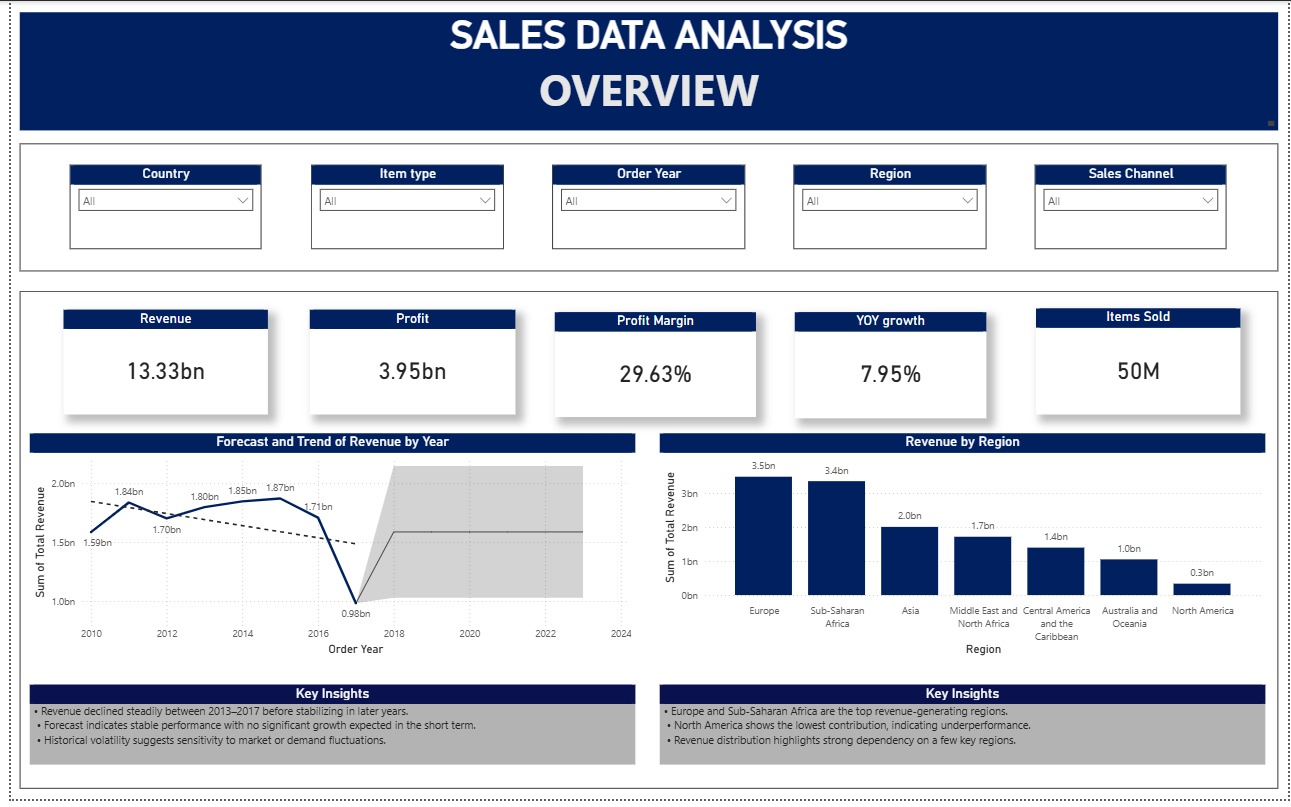

Layout of this report page (visuals, bound fields, positions):
{"tool":"powerbi","page":{"name":"Overview","canvas":[1600,1000],"ordinal":0},"visuals":[{"type":"textbox","box":[10.2,178.3,1576.1,159.6],"z":0},{"type":"textbox","box":[10.2,363.5,1576.1,623.3],"z":1000},{"type":"card","title":"Revenue","fields":{"Values":["Sales Data.Revenue"]},"box":[65.7,387.3,255.7,131.3],"z":2000},{"type":"textbox","title":"SALES DATA ANALYSIS","box":[10.2,13.6,1576.1,147.8],"z":3000},{"type":"card","title":"Items Sold ","fields":{"Values":["Sum(Sales Data.Units Sold)"]},"box":[1283.7,385.6,255.7,133],"z":4000},{"type":"card","title":"Profit Margin","fields":{"Values":["Sales Data.Profit Margin"]},"box":[680.7,389.1,252.2,131.3],"z":5000},{"type":"card","title":"Profit","fields":{"Values":["Sum(Sales Data.Total Profit)"]},"box":[374.9,387.3,257.4,131.3],"z":6000},{"type":"lineChart","title":"Forecast and Trend of Revenue by Year","fields":{"Y":["Sum(Sales Data.Total Revenue)"],"Category":["Sales Data.Order Year"]},"box":[24.2,541,758.5,283.3],"z":7000},{"type":"columnChart","title":"Revenue by Region","fields":{"Category":["Sales Data.Region"],"Y":["Sum(Sales Data.Total Revenue)"]},"box":[812,541,758.5,283.3],"z":8000},{"type":"slicer","title":"Country","fields":{"Values":["Sales Data.Country"]},"box":[74.3,205.7,240,105.7],"z":9000},{"type":"slicer","title":"Item type","fields":{"Values":["Sales Data.Item Type"]},"box":[375.4,205.7,241.4,105.7],"z":10000},{"type":"slicer","title":"Order Year","fields":{"Values":["Sales Data.Order Year"]},"box":[677.9,205.7,241.4,105.7],"z":11000},{"type":"slicer","title":"Sales Channel","fields":{"Values":["Sales Data.Sales Channel"]},"box":[1282.9,205.7,240,105.7],"z":12000},{"type":"slicer","title":"Region","fields":{"Values":["Sales Data.Country","Sales Data.Region"]},"box":[980.4,205.7,241.4,105.7],"z":13000},{"type":"card","title":"YOY growth","fields":{"Values":["Sales Data.YoY Growth"]},"box":[981.3,389.1,240.2,133],"z":14000},{"type":"textbox","title":"Key Insights","box":[24.2,857,758.5,100.2],"z":15000},{"type":"textbox","title":"Key Insights ","box":[812,857,758.5,100.2],"z":16000}]}

Visuals, with their boxes in screenshot pixels (x1, y1, x2, y2), scaled from the page's 1600x1000 canvas onto the 1291x807 screenshot:
textbox: locate(8, 144, 1280, 273)
textbox: locate(8, 293, 1280, 796)
"Revenue" card: locate(53, 313, 259, 419)
"SALES DATA ANALYSIS" textbox: locate(8, 11, 1280, 130)
"Items Sold " card: locate(1036, 311, 1242, 419)
"Profit Margin" card: locate(549, 314, 753, 420)
"Profit" card: locate(302, 313, 510, 419)
"Forecast and Trend of Revenue by Year" lineChart: locate(20, 437, 632, 665)
"Revenue by Region" columnChart: locate(655, 437, 1267, 665)
"Country" slicer: locate(60, 166, 254, 251)
"Item type" slicer: locate(303, 166, 498, 251)
"Order Year" slicer: locate(547, 166, 742, 251)
"Sales Channel" slicer: locate(1035, 166, 1229, 251)
"Region" slicer: locate(791, 166, 986, 251)
"YOY growth" card: locate(792, 314, 986, 421)
"Key Insights" textbox: locate(20, 692, 632, 772)
"Key Insights " textbox: locate(655, 692, 1267, 772)
